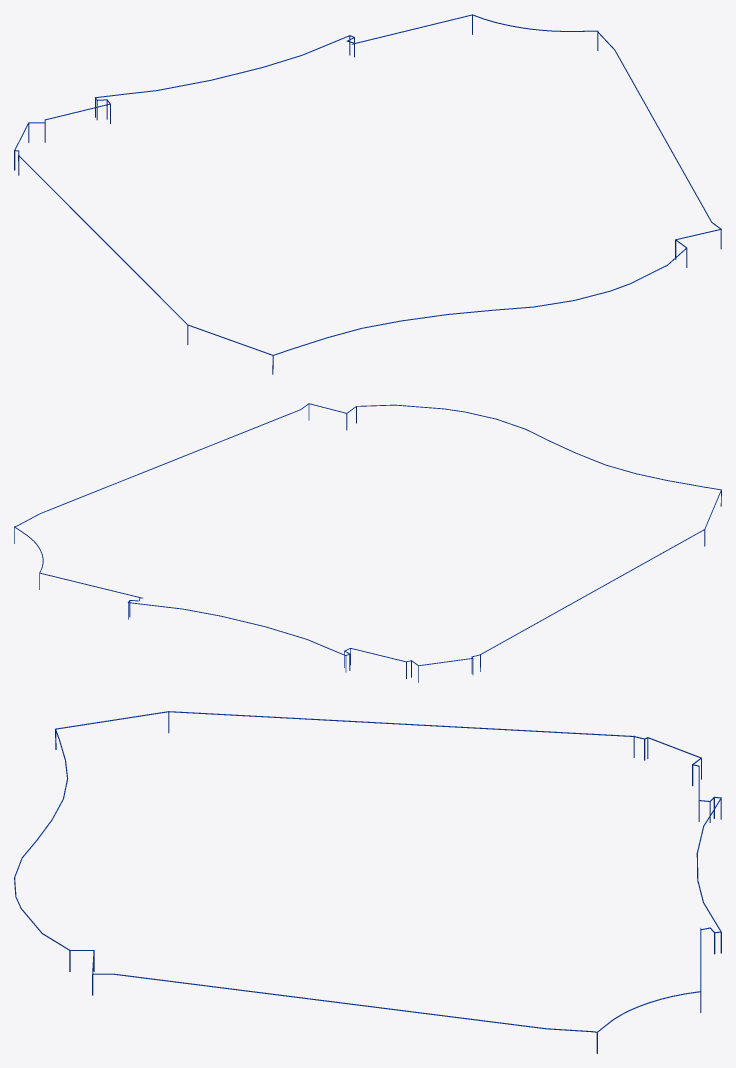
File: F1-外墙装饰.FBX
The picture shows the model from 3 angles, top to bottom: view 1: azimuth 30°, elevation 25°; view 2: azimuth 150°, elevation 25°; view 3: azimuth 270°, elevation 25°; orthographic projection. The views are drawn at different scales.
Visible parts, largest first — view 1: F1-装饰; view 2: F1-装饰; view 3: F1-装饰.
Part boxes in pixels (box(x1,y1,x2,y2)): F1-装饰: box(14, 14, 721, 374); F1-装饰: box(14, 403, 721, 682); F1-装饰: box(14, 711, 721, 1053).
Bounding box in the file's own units: 323 × 301 × 10.34.
